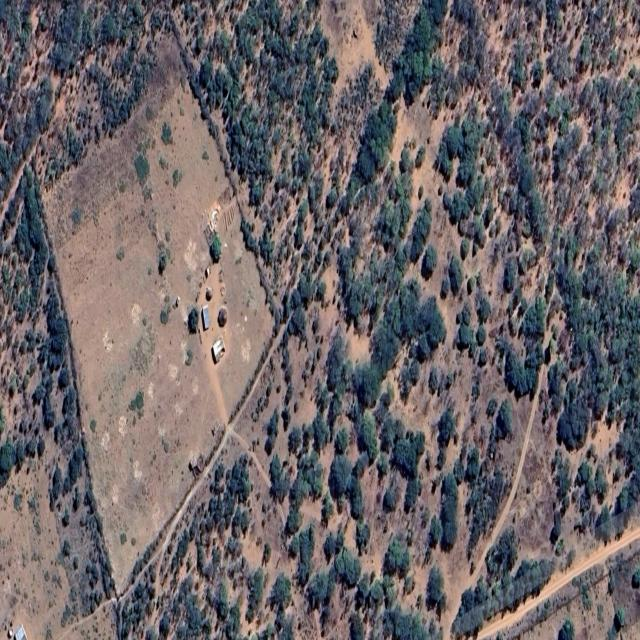boundaries: (115, 204, 349, 615), (40, 18, 281, 323), (23, 165, 121, 606), (443, 356, 550, 627), (336, 3, 451, 221), (467, 524, 640, 640), (58, 586, 121, 640), (0, 151, 38, 235)
